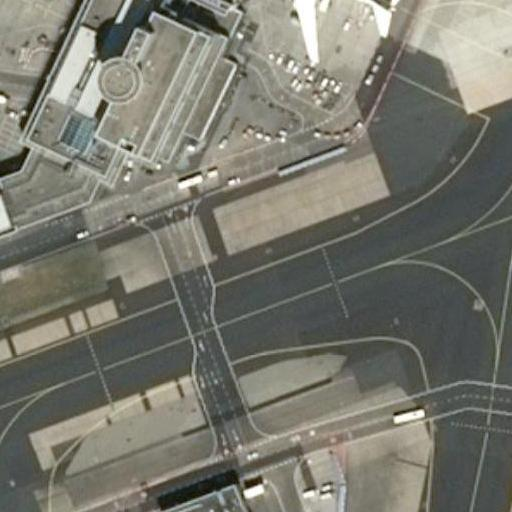Aircraft: (224, 0, 419, 66)
